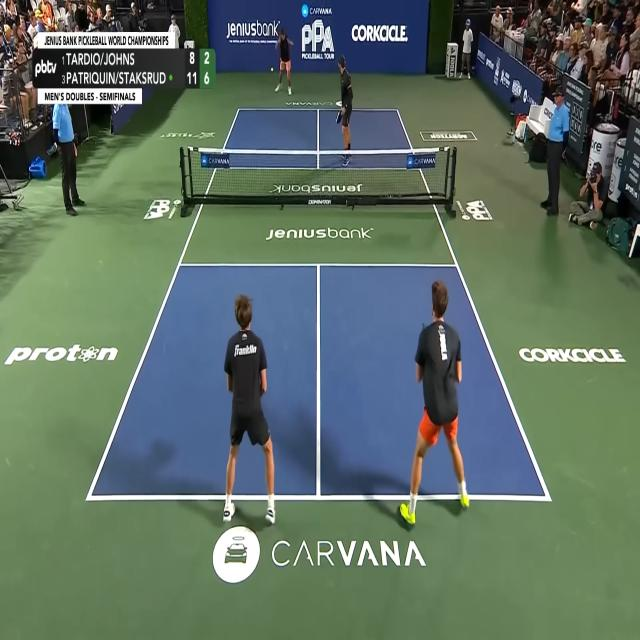ball: (270, 66, 274, 72)
